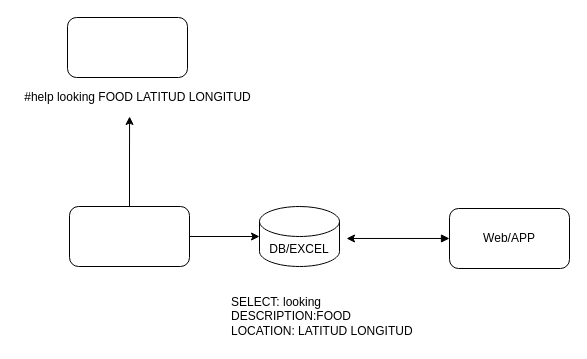
Some shapes in this 587 by 359 pixel diagram are drawn without their labels. The shapes that lost their labels are listed below. From the top down, each one's box as (x1, y1, x2, y2) in pixels, then its label:
(66, 16, 188, 78): Twitter
(68, 206, 190, 266): Pyhton / Rust
